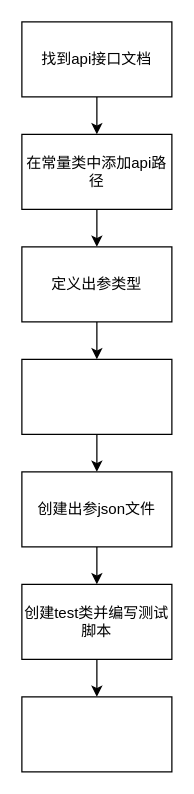
This 194x794 diagram has some shape labels left out. The centre of each missing label's shape, as x and y in pixels:
"创建入参json文件" goes at pixel 96 396.
"编写运行xml" goes at pixel 96 734.
